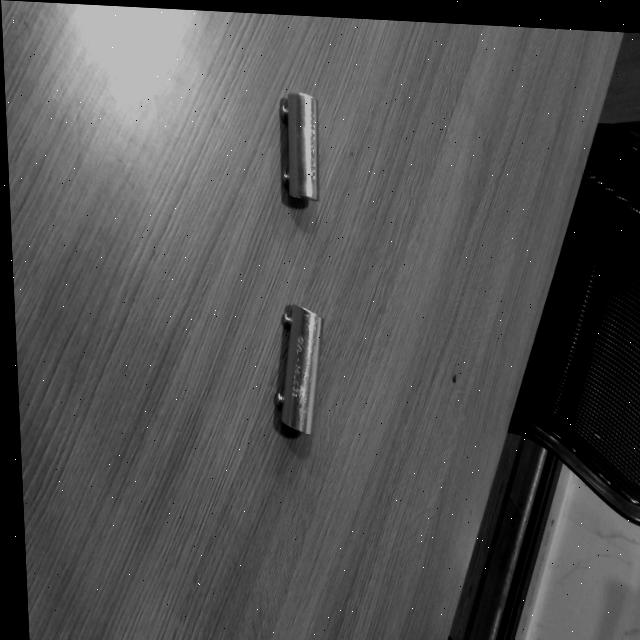Co_Lon: (270, 304, 323, 437)
Co_Nho: (279, 92, 318, 201)
